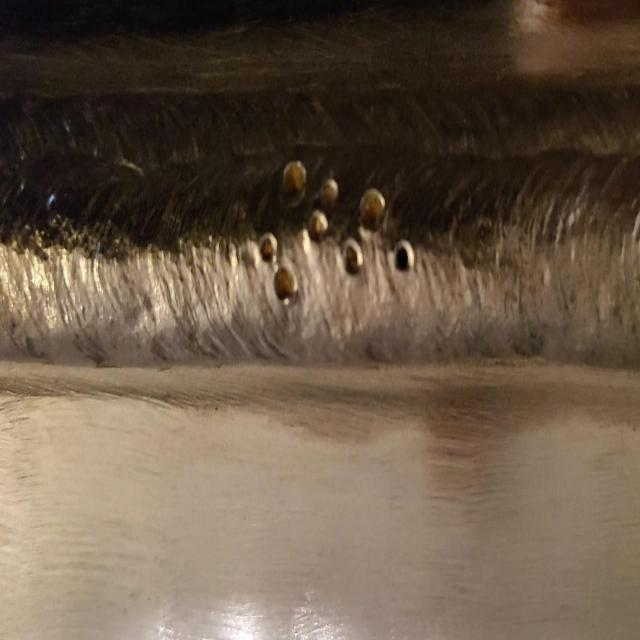Welding Line: (2, 107, 636, 363)
porosity: (261, 160, 415, 302)
